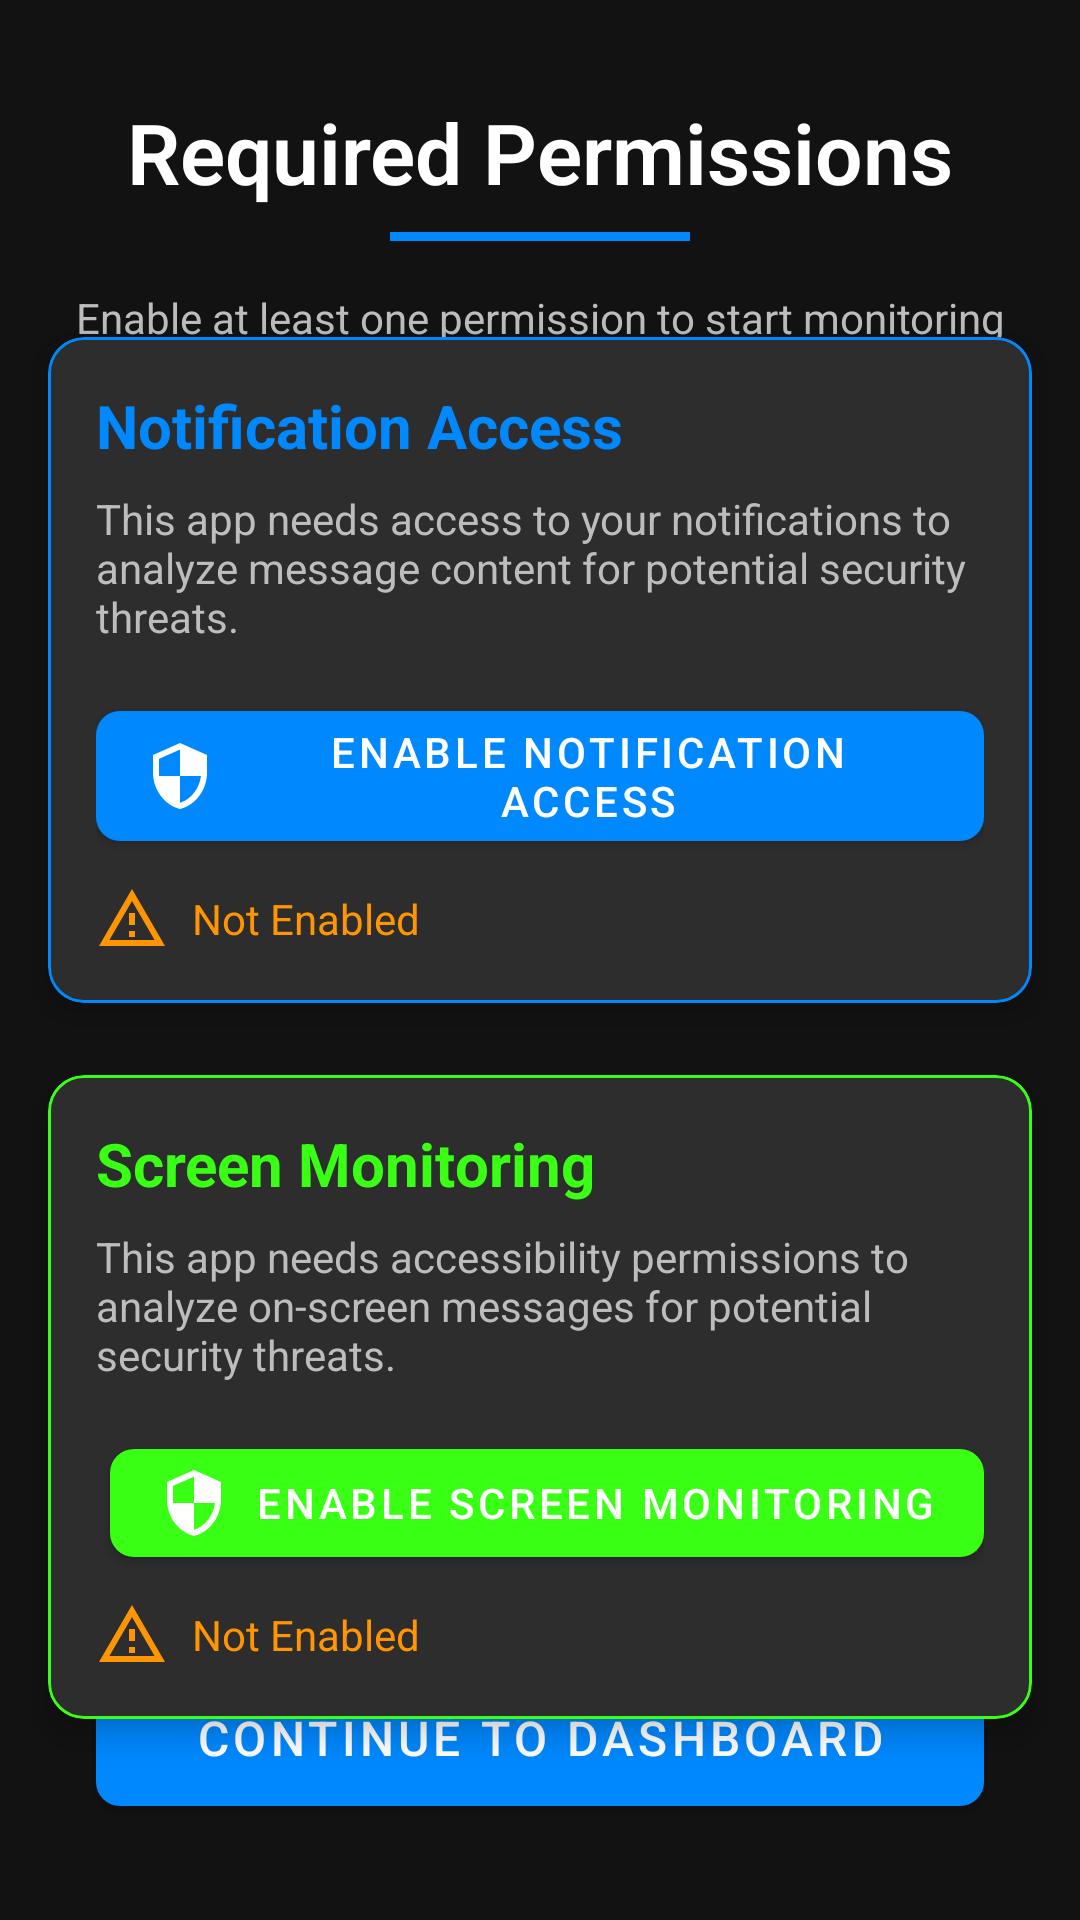

Screen size 1080px x 1920px. Icon name, then its center in pixels as [x,y]:
security warning: [132,917], [132,1633]
